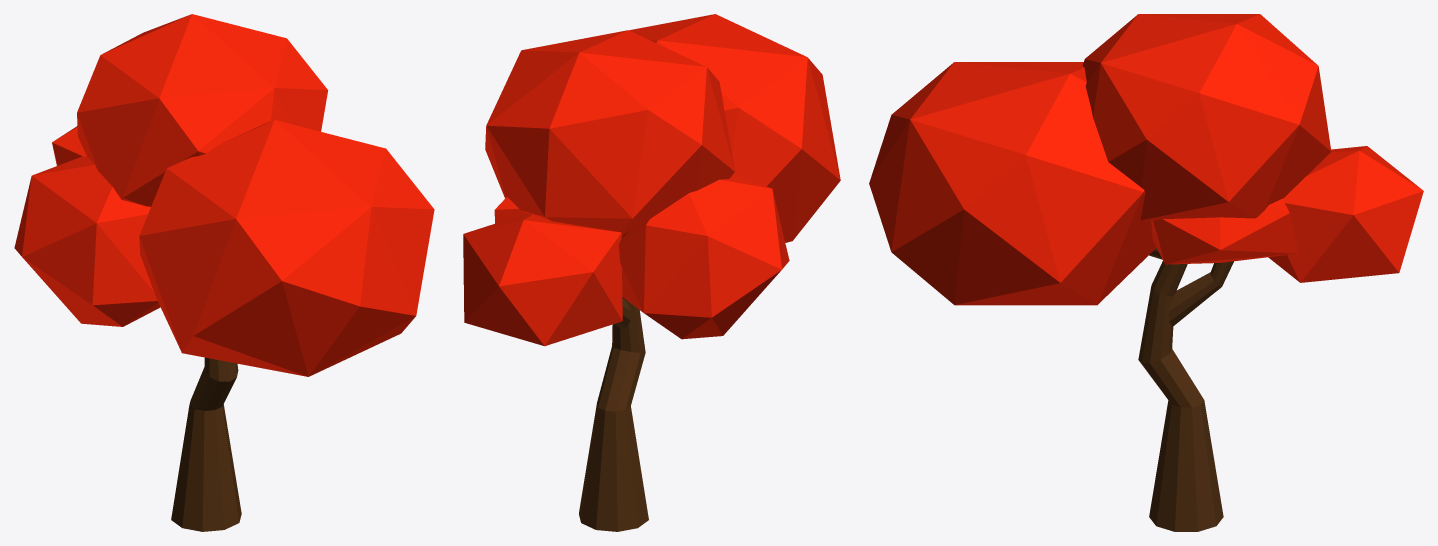
Rendered from Maple_Tree_003.fbx.
The picture shows the model from 3 angles, left to right: view 1: azimuth 30°, elevation 25°; view 2: azimuth 150°, elevation 25°; view 3: azimuth 270°, elevation 25°; orthographic projection. The views are drawn at different scales.
Parts seen in each view (by area): view 1: Maple Tree.003; view 2: Maple Tree.003; view 3: Maple Tree.003.
Boxes of the visible parts, <box> form: Maple Tree.003: <box>14,14,434,531</box>; Maple Tree.003: <box>463,14,840,531</box>; Maple Tree.003: <box>869,14,1423,531</box>.
Size of the model in its own units: 249 by 377 by 381.
